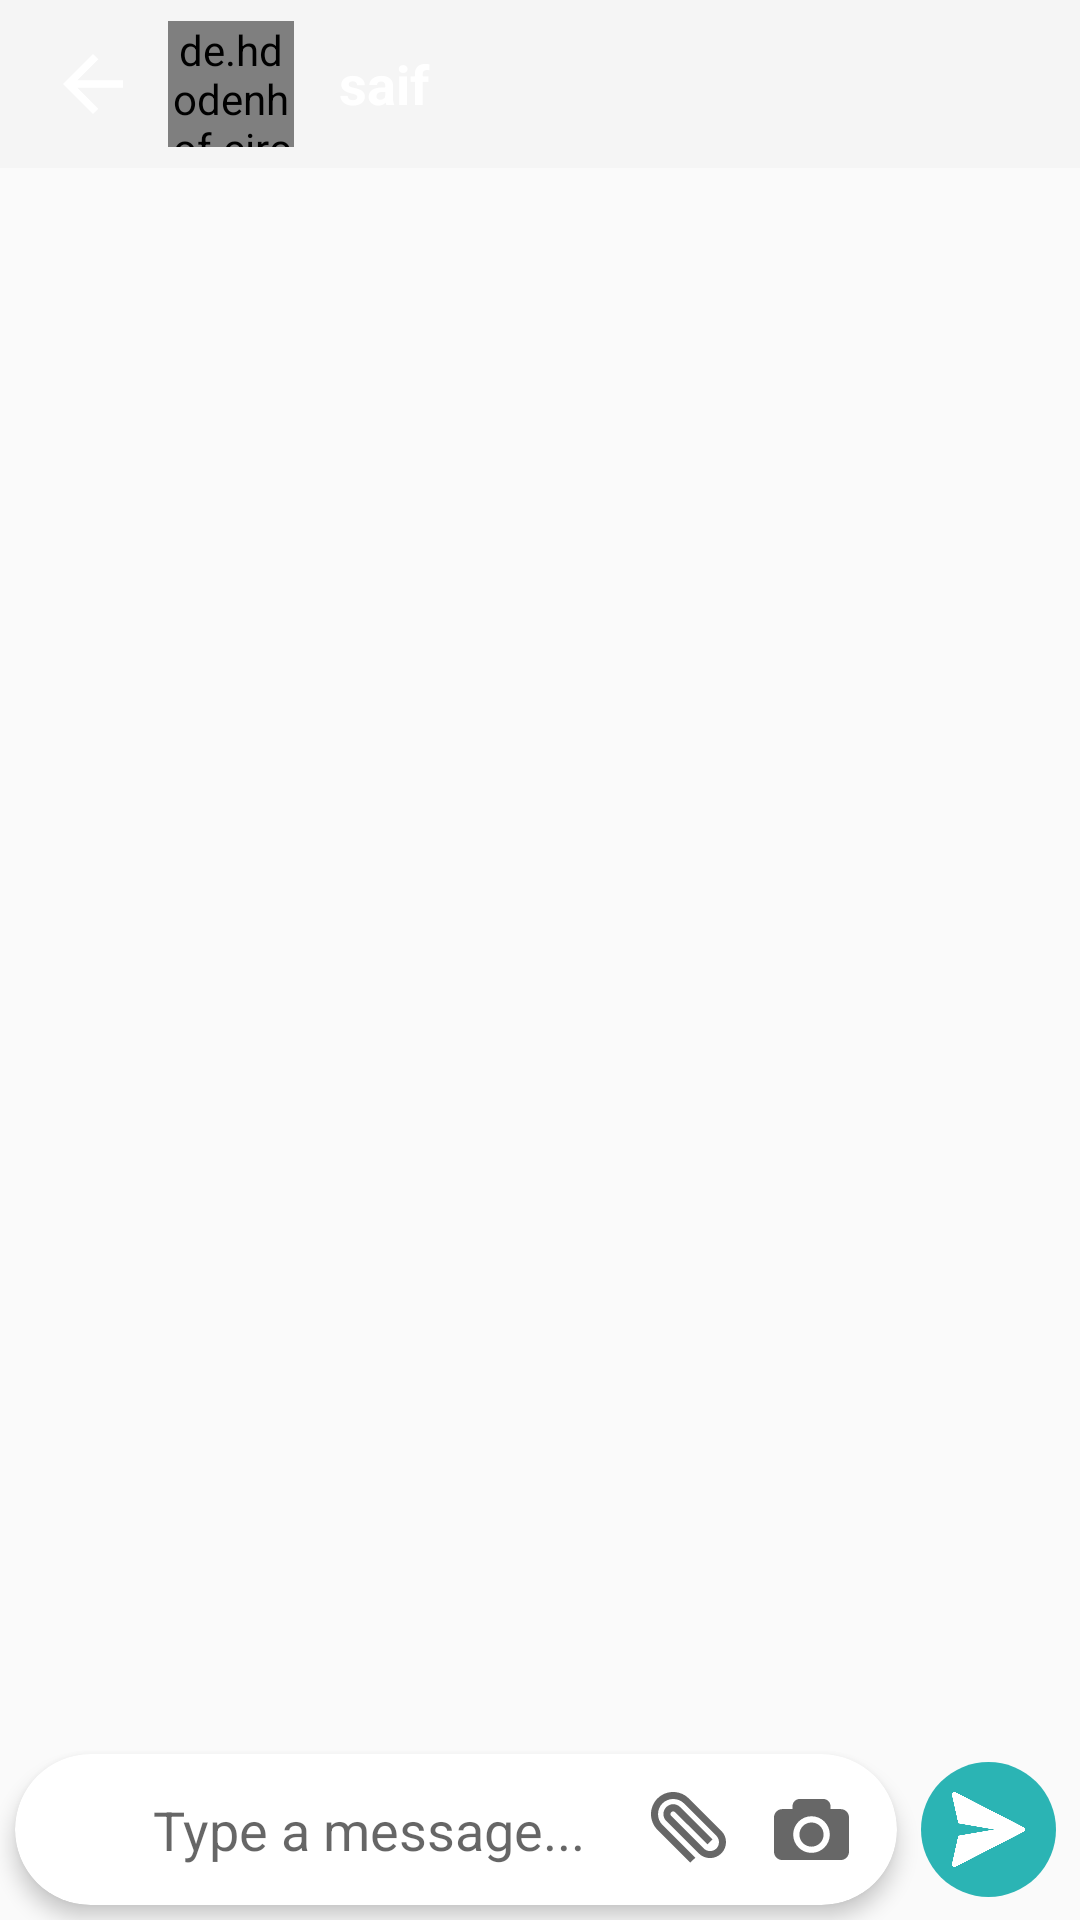

Named icons in this screenshot (1080px x 1920px) and their bounding boxes, (x1, y1, x2, y2):
attachment: (651, 1792, 726, 1863)
camera: (774, 1799, 849, 1860)
send: (921, 1762, 1056, 1897)
